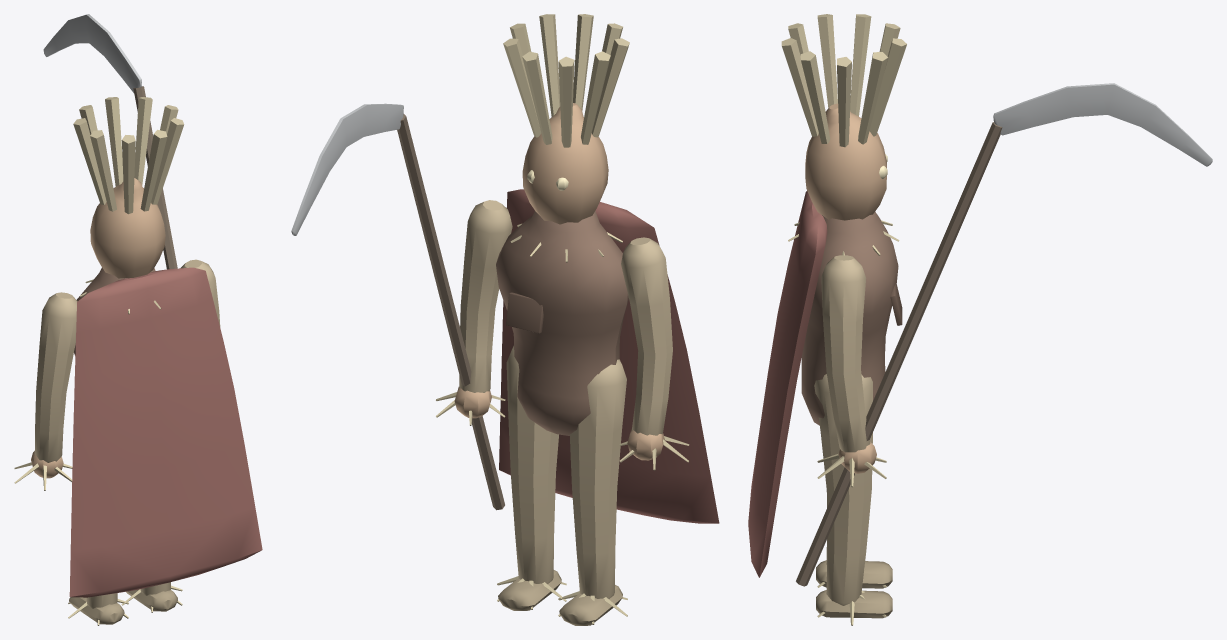
File: harvest_king.gltf
The picture shows the model from 3 angles, left to right: view 1: azimuth 30°, elevation 25°; view 2: azimuth 150°, elevation 25°; view 3: azimuth 270°, elevation 25°; orthographic projection. The views are drawn at different scales.
Parts seen in each view (by area): view 1: Body, ArmL, ArmR, SwingA, SwingB; view 2: Body, ArmR, SwingA, SwingB, ArmL; view 3: Body, ArmR, SwingB, SwingA.
Boxes of the visible parts, <box> form: Body: <box>69,97,262,597</box>; ArmL: <box>14,292,77,490</box>; ArmR: <box>43,14,220,326</box>; SwingA: <box>68,593,128,625</box>; SwingB: <box>121,582,182,612</box>; Body: <box>496,14,719,523</box>; ArmR: <box>291,103,512,510</box>; SwingA: <box>558,359,627,625</box>; SwingB: <box>497,345,566,610</box>; ArmL: <box>619,237,689,470</box>; Body: <box>748,14,906,577</box>; ArmR: <box>796,83,1212,586</box>; SwingB: <box>814,374,892,625</box>; SwingA: <box>816,539,892,588</box>.
Bounding box in the file's own units: 1.03 × 2.21 × 1.65.
